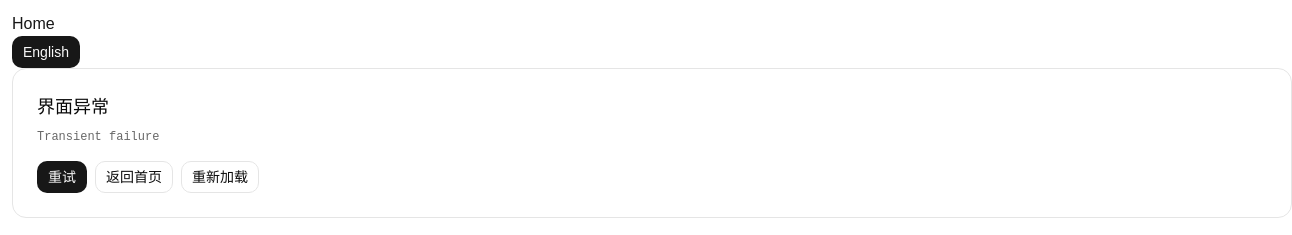
Test: route error boundary › retries a transient page failure in place while preserving the shell
Click the button "重试": click(62, 177) [37, 161, 87, 193]
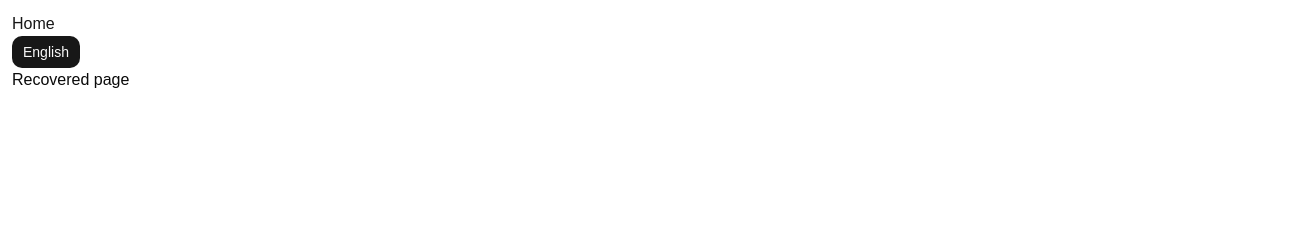
Check: the text "Recovered page" is shown, box [12, 71, 129, 88]
Check: the message "界面异常 Transient failure 重试 返回首页 重新加载" is gone
